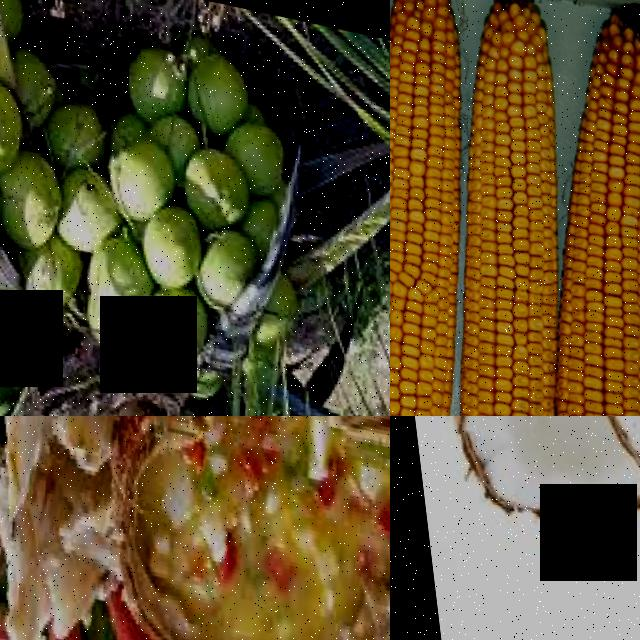coconut: (400, 416, 634, 537), (548, 416, 640, 577)
coconuts: (98, 25, 307, 246), (59, 190, 256, 380), (0, 0, 91, 233)
corn: (390, 0, 623, 416), (477, 0, 640, 416), (390, 0, 522, 416)
